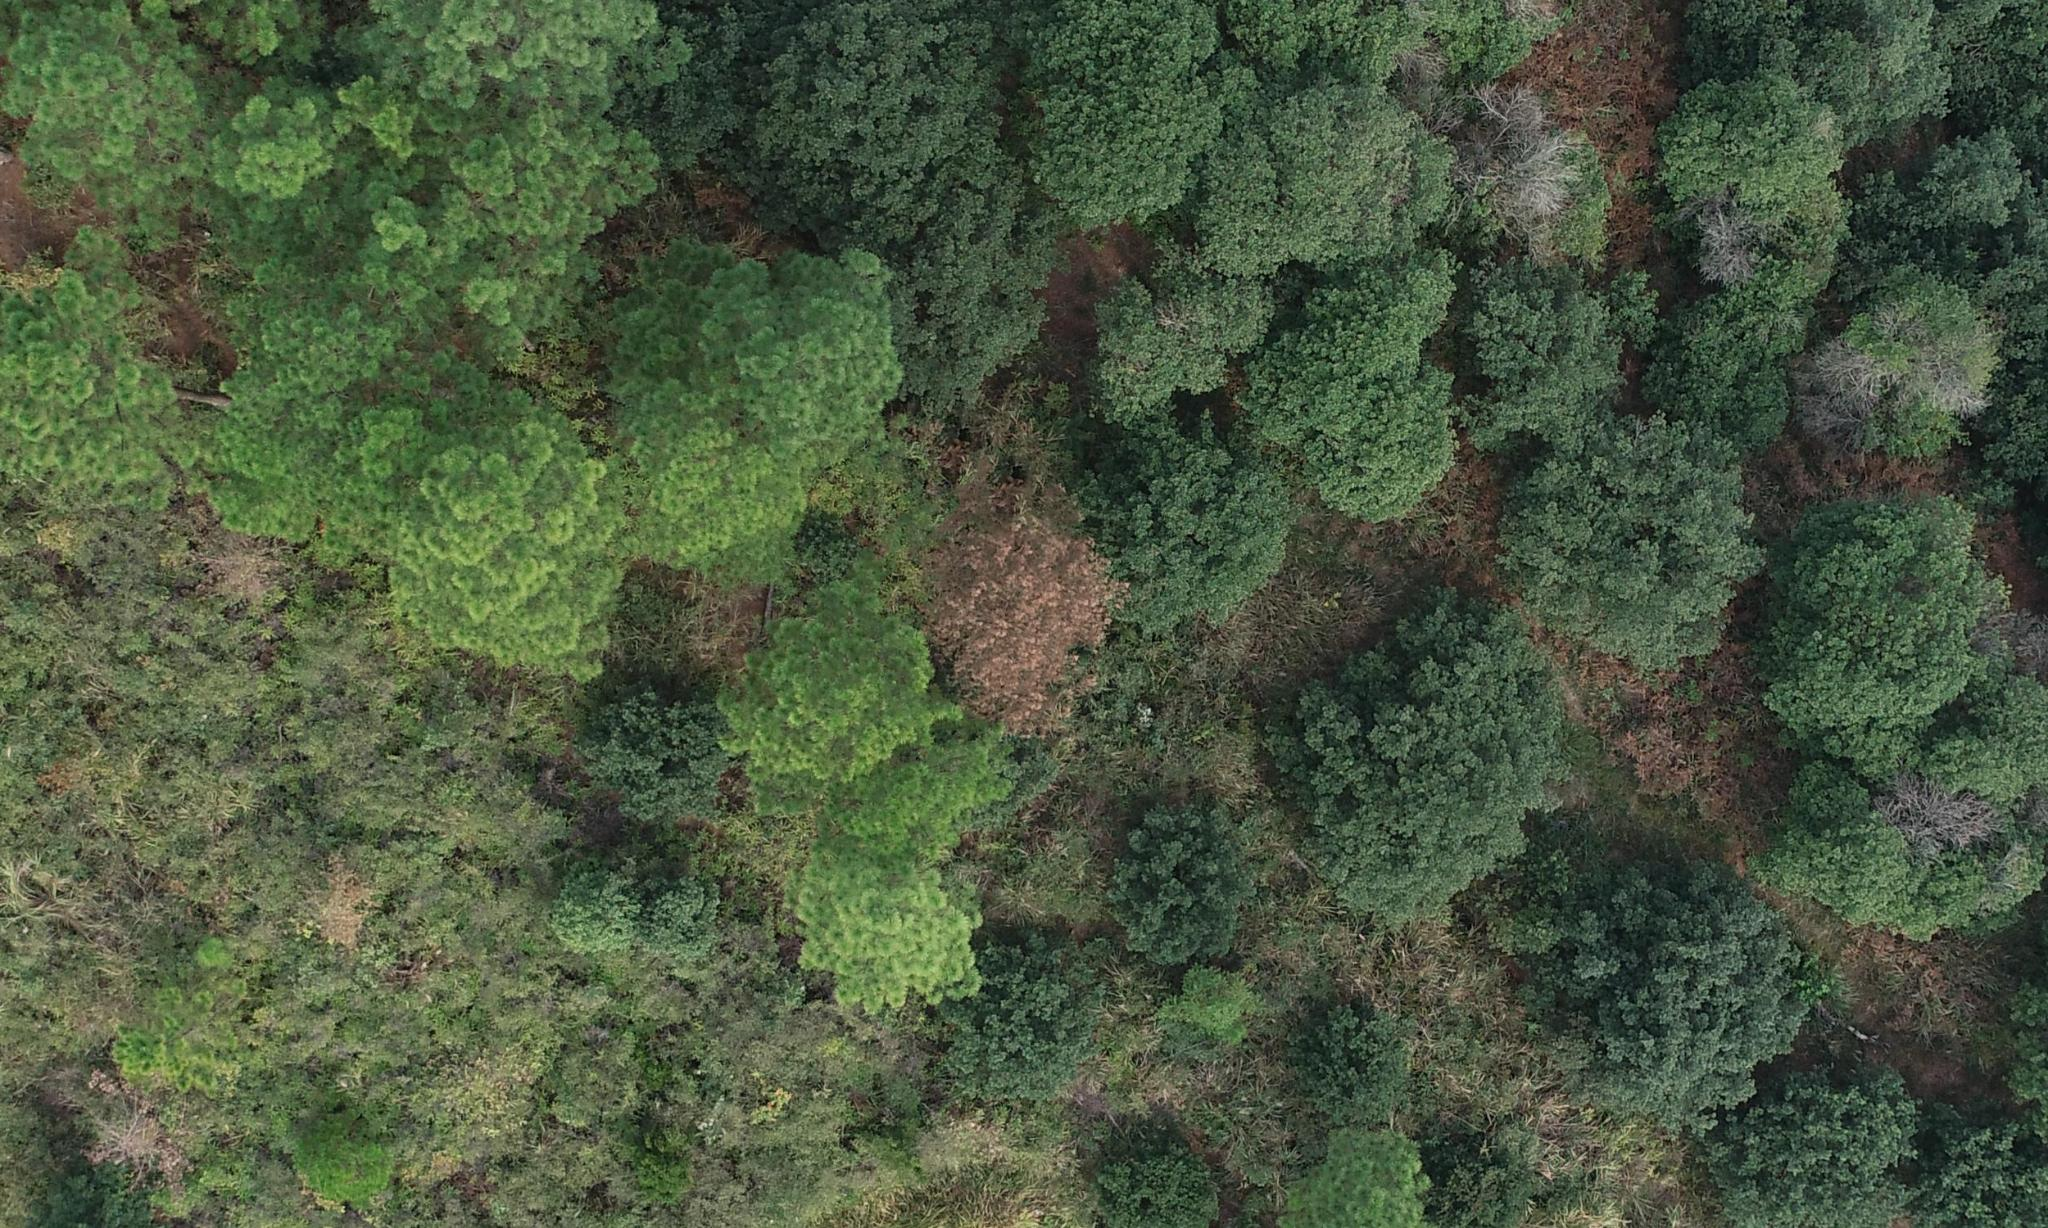dead: (1460, 86, 1585, 234), (1887, 765, 1985, 858)
heavy: (905, 456, 1114, 740)
